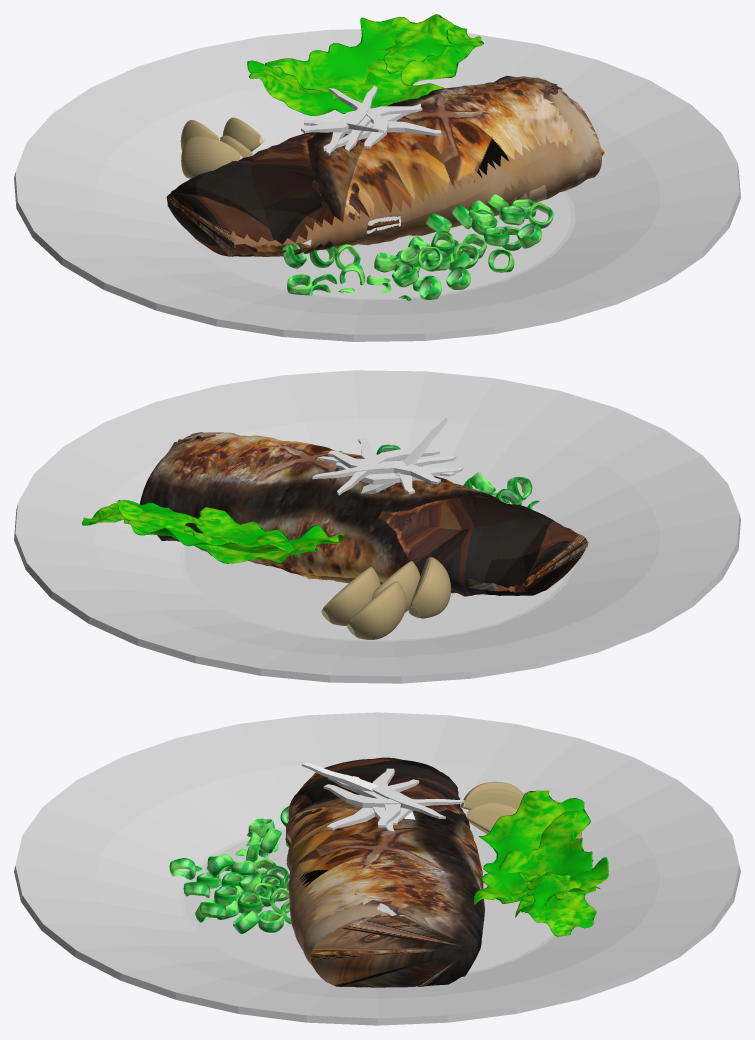
Rendered from grilled_mackerel.fbx.
3 views of the same model, one above another, from view 1: azimuth 30°, elevation 25°; view 2: azimuth 150°, elevation 25°; view 3: azimuth 270°, elevation 25° (orthographic).
Visible parts, largest first — view 1: 재료접시, defaultMaterial.008, Alface.008, 사바동 파.002, 사바동 양파.002, 사바동 마늘.005, 사바동 마늘.008; view 2: 재료접시, defaultMaterial.008, Alface.008, 사바동 양파.002, 사바동 마늘.007, 사바동 마늘.005, 사바동 마늘.008, 사바동 파.002, 사바동 마늘.006; view 3: 재료접시, defaultMaterial.008, Alface.008, 사바동 파.002, 사바동 양파.002, 사바동 마늘.005, 사바동 마늘.006.
Part boxes in pixels (x1,y1,x2,y2): 재료접시: (14,29,740,341); defaultMaterial.008: (166,75,604,256); Alface.008: (247,14,483,115); 사바동 파.002: (282,194,553,300); 사바동 양파.002: (301,85,441,155); 사바동 마늘.005: (181,136,242,178); 사바동 마늘.008: (222,117,264,151); 재료접시: (14,370,740,683); defaultMaterial.008: (140,432,588,596); Alface.008: (82,500,343,563); 사바동 양파.002: (312,417,463,495); 사바동 마늘.007: (347,581,406,639); 사바동 마늘.005: (408,557,451,618); 사바동 마늘.008: (321,567,380,625); 사바동 파.002: (338,444,583,542); 사바동 마늘.006: (372,561,420,612); 재료접시: (14,712,740,1025); defaultMaterial.008: (285,757,485,987); Alface.008: (474,790,608,936); 사바동 파.002: (169,806,291,933); 사바동 양파.002: (301,763,464,833); 사바동 마늘.005: (461,781,523,810); 사바동 마늘.006: (465,802,517,833).
Size of the model in its own units: 199 by 43.34 by 199.
